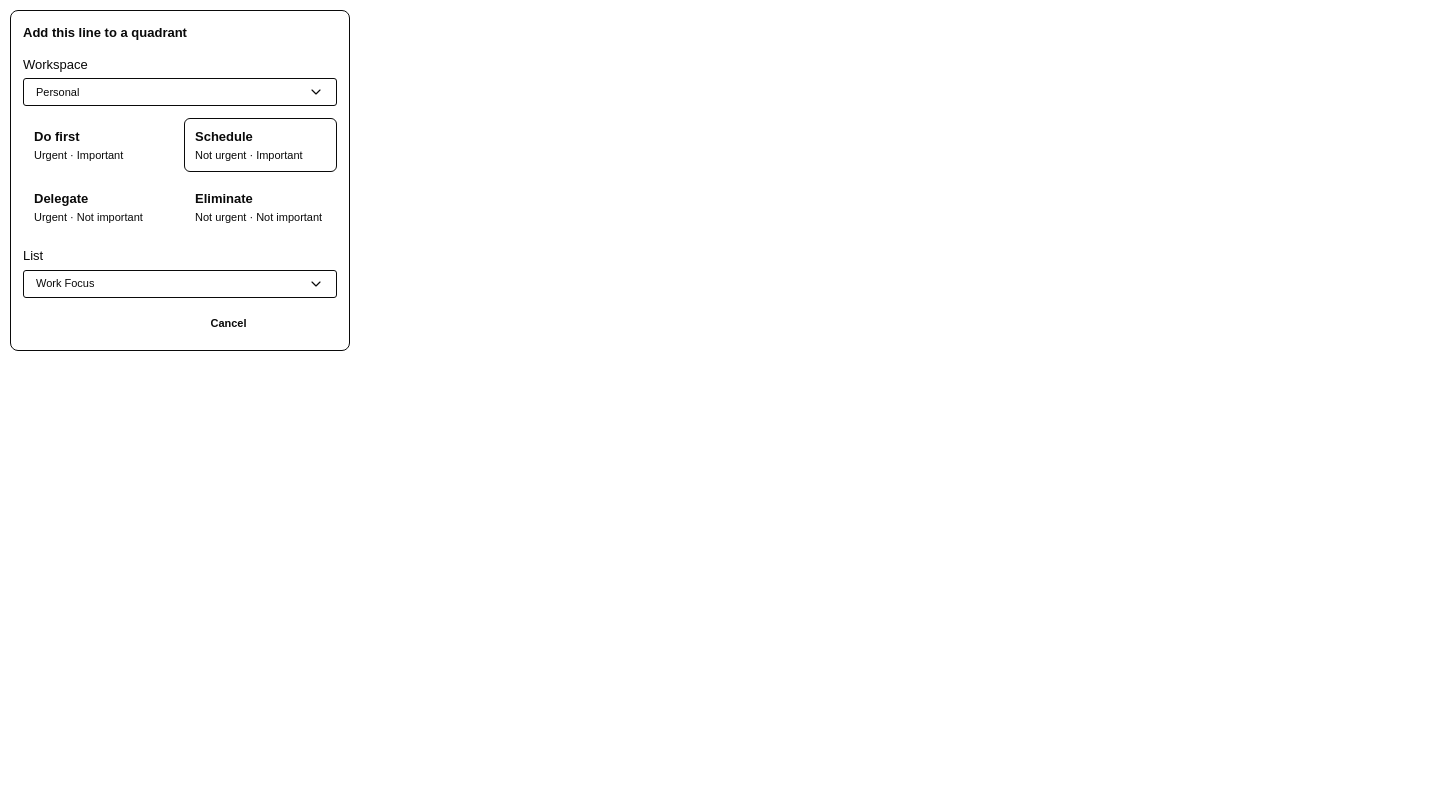
Test: MentionMenu › selects target members and lists for a personal @buddy assignment
What coordinates should you click on to do the following:
click the dropdown named "Workspace"
I would click on:
 (58, 92)
Its box is [23,78,337,106].
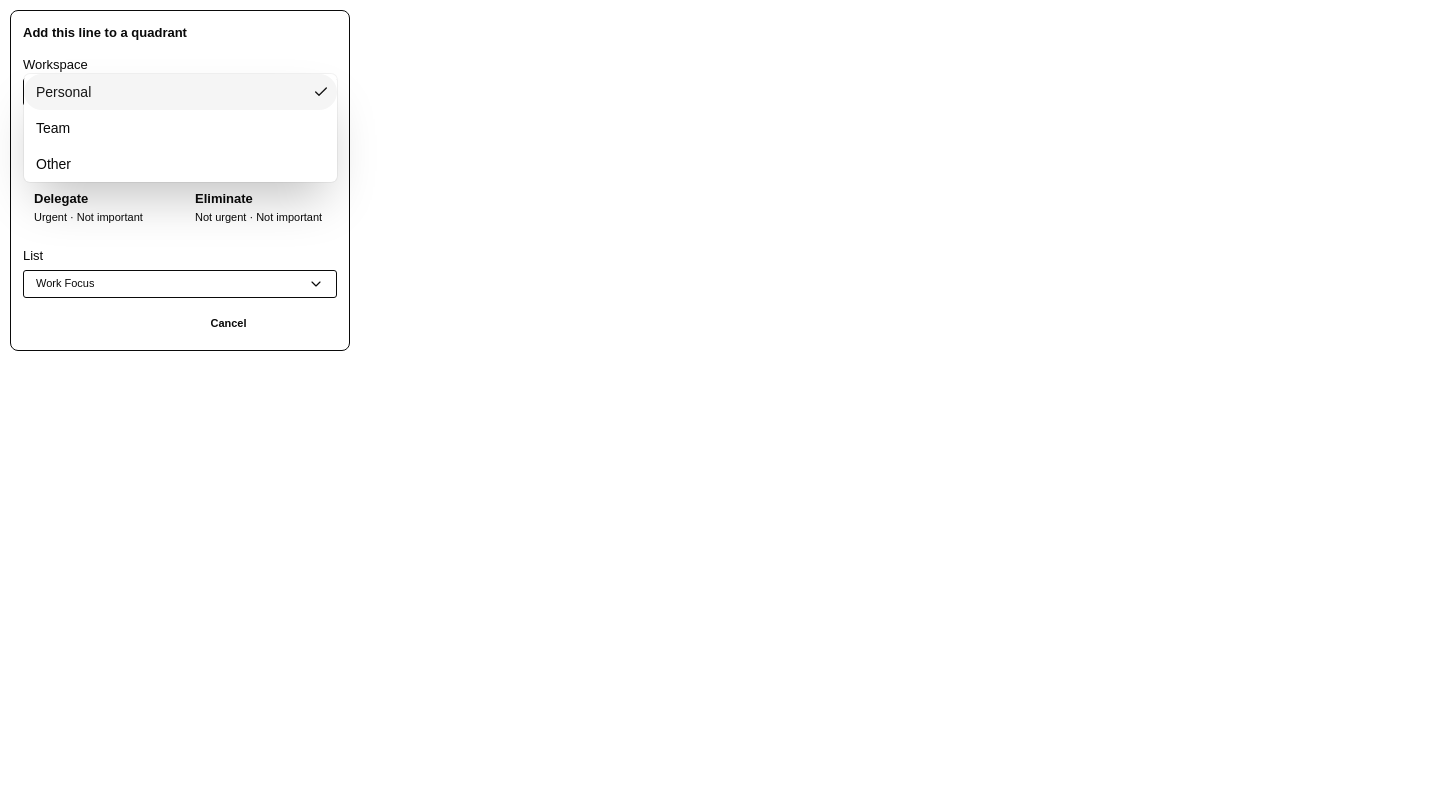
What coordinates should you click on to do the following:
click the option "Team"
I would click on:
 (53, 128)
Its box is [36,120,70,136].
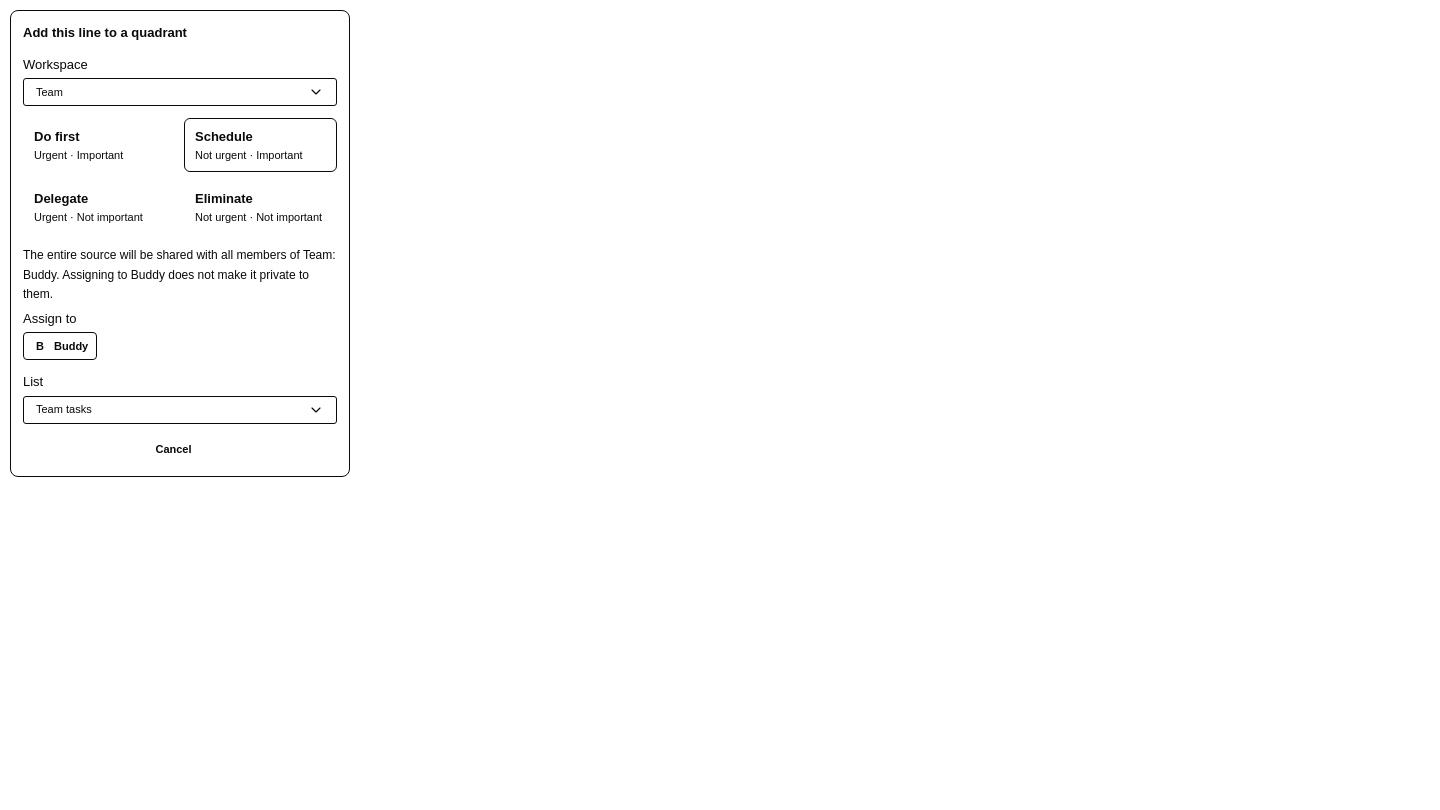
Expected: the text "entire source will be shared" is shown, [23,248,193,262]
